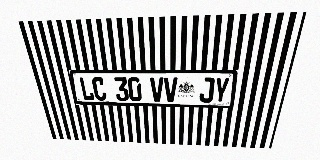0: (127, 77, 142, 101)
3: (114, 77, 129, 101)
C: (91, 77, 107, 101)
J: (199, 77, 215, 103)
L: (78, 77, 95, 100)
V: (150, 77, 164, 102), (164, 77, 177, 102)
Y: (213, 77, 230, 103)
